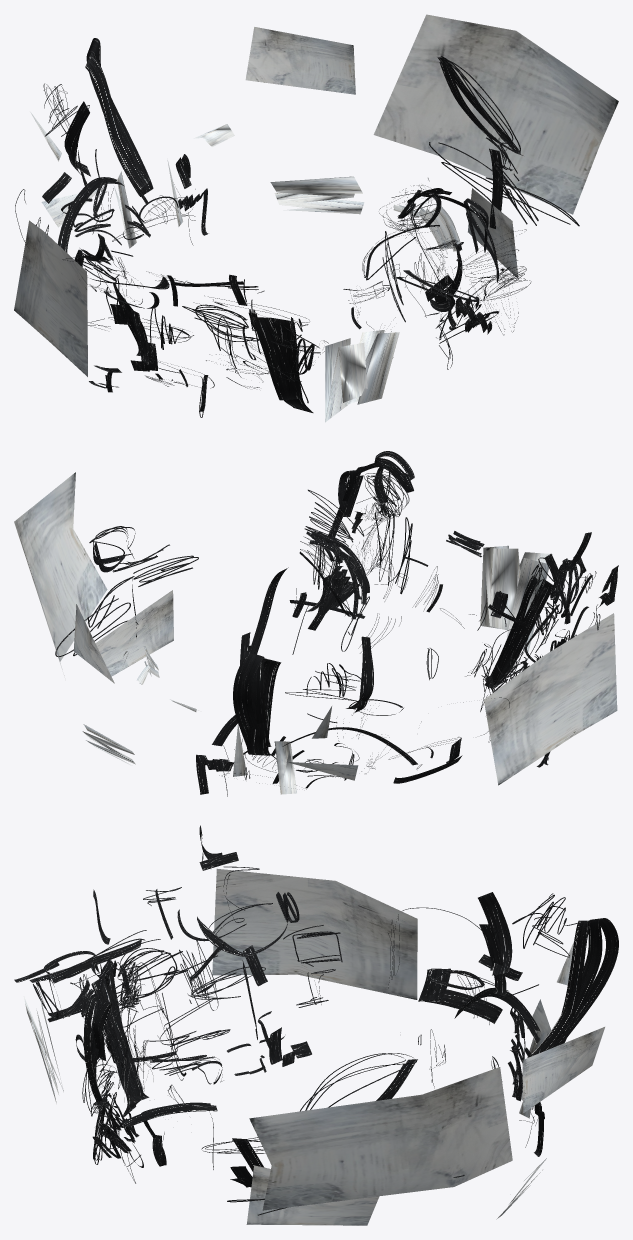
File: systemeundmenschen.glb
3 renders of one model, top to bottom at view 1: azimuth 30°, elevation 25°; view 2: azimuth 150°, elevation 25°; view 3: azimuth 270°, elevation 25°, orthographic. The views are drawn at different scales.
Parts seen in each view (by area): view 1: white, black; view 2: white, black; view 3: white, black.
Part boxes in pixels (bbox=[...]): white: bbox=[14, 14, 618, 422]; black: bbox=[15, 38, 579, 417]; white: bbox=[14, 472, 617, 794]; black: bbox=[55, 451, 618, 796]; white: bbox=[23, 868, 604, 1225]; black: bbox=[14, 825, 618, 1215].
Bounding box in the file's own units: 6.97 × 2.54 × 6.42.
Materials: 2 (2 with a texture image).
